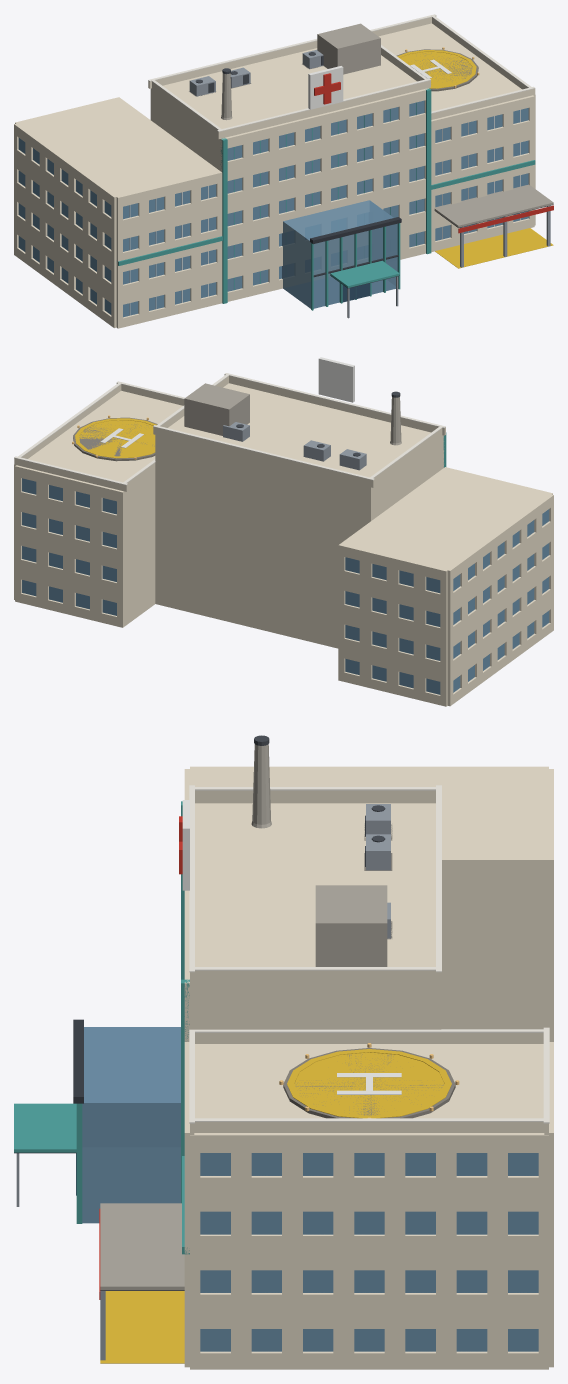
File: BUILDING_12.obj
3 renders of one model, top to bottom at view 1: azimuth 30°, elevation 25°; view 2: azimuth 150°, elevation 25°; view 3: azimuth 270°, elevation 25°, orthographic. The views are drawn at different scales.
Parts seen in each view (by area): view 1: walls_floor03, walls_floor02, wing_L, main_block, atrium, walls_floor01, walls_floor04, roof, walls_floor00, windows_floor02, windows_floor03, canopies (+12 smaller); view 2: main_block, walls_floor03, wing_L, walls_floor02, walls_floor01, wing_R, roof, walls_floor00, helipad, roof_plant, windows_floor00, windows_floor01 (+5 smaller); view 3: main_block, wing_L, walls_floor03, roof, atrium, walls_floor02, walls_floor01, wing_R, canopies, walls_floor00, helipad, ambulance_bay (+10 smaller).
Part boxes in pixels (<box>): walls_floor03: <box>14,94,535,240</box>; walls_floor02: <box>14,137,535,273</box>; wing_L: <box>16,98,220,196</box>; main_block: <box>150,48,416,170</box>; atrium: <box>282,200,401,310</box>; walls_floor01: <box>14,170,535,305</box>; walls_floor04: <box>220,88,428,180</box>; roof: <box>148,14,535,139</box>; walls_floor00: <box>14,209,535,328</box>; windows_floor02: <box>18,140,528,251</box>; windows_floor03: <box>18,108,528,219</box>; canopies: <box>330,184,553,318</box>; main_block: <box>155,383,443,648</box>; walls_floor03: <box>14,464,553,615</box>; wing_L: <box>340,468,550,570</box>; walls_floor02: <box>14,509,553,649</box>; walls_floor01: <box>14,542,553,683</box>; wing_R: <box>28,390,182,626</box>; roof: <box>14,373,445,491</box>; walls_floor00: <box>14,576,553,706</box>; helipad: <box>72,415,157,461</box>; roof_plant: <box>184,383,249,435</box>; windows_floor00: <box>22,580,549,694</box>; windows_floor01: <box>22,546,549,660</box>; main_block: <box>190,803,441,1029</box>; wing_L: <box>190,769,548,1029</box>; walls_floor03: <box>184,766,553,1211</box>; roof: <box>189,785,549,1134</box>; atrium: <box>73,1019,180,1223</box>; walls_floor02: <box>184,936,553,1270</box>; walls_floor01: <box>184,995,553,1328</box>; wing_R: <box>195,1044,543,1118</box>; canopies: <box>14,1103,184,1290</box>; walls_floor00: <box>184,1326,553,1369</box>; helipad: <box>279,1043,459,1118</box>; ambulance_bay: <box>99,1208,184,1363</box>.
Bounding box in the file's own units: 48.56 × 23.25 × 30.08.
